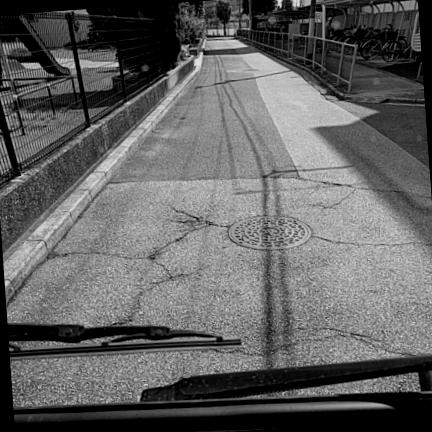Road: (7, 39, 431, 406)
